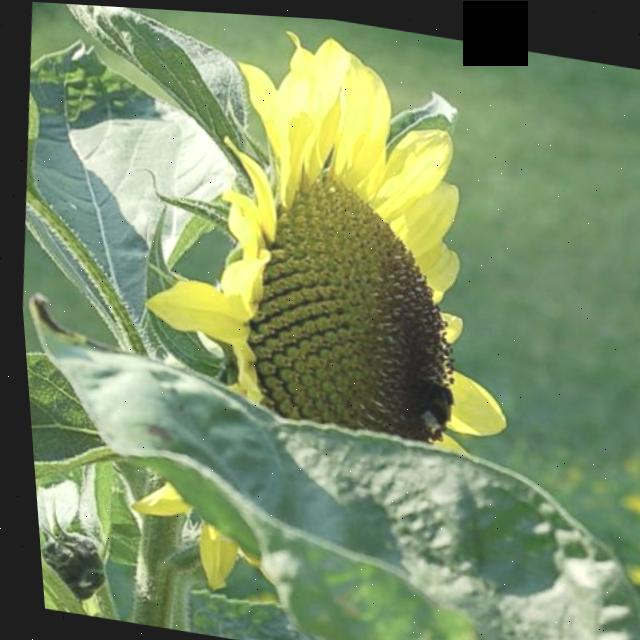sunflower: (13, 1, 640, 640)
